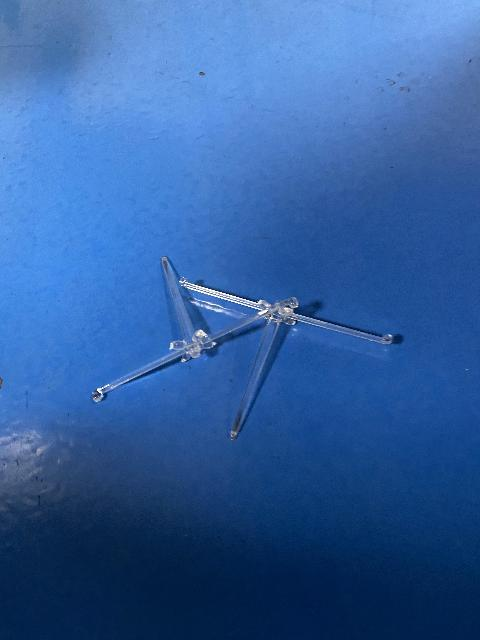Plastik: (173, 267, 395, 435), (86, 260, 297, 398)
